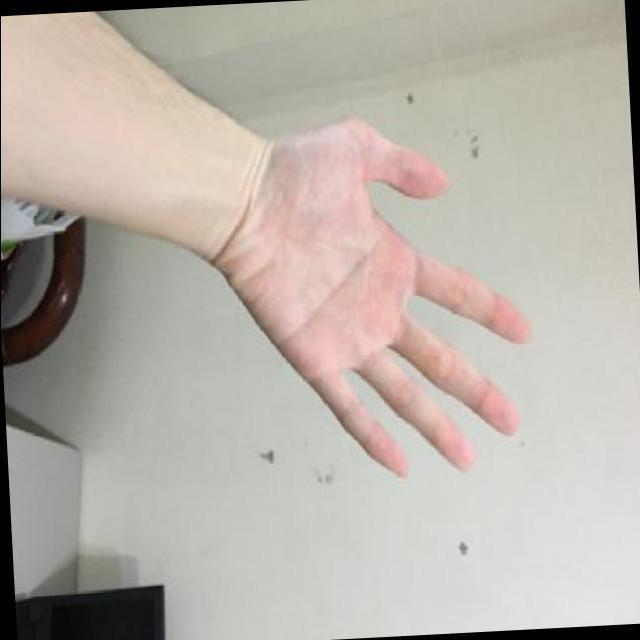hand: (181, 87, 558, 502)
